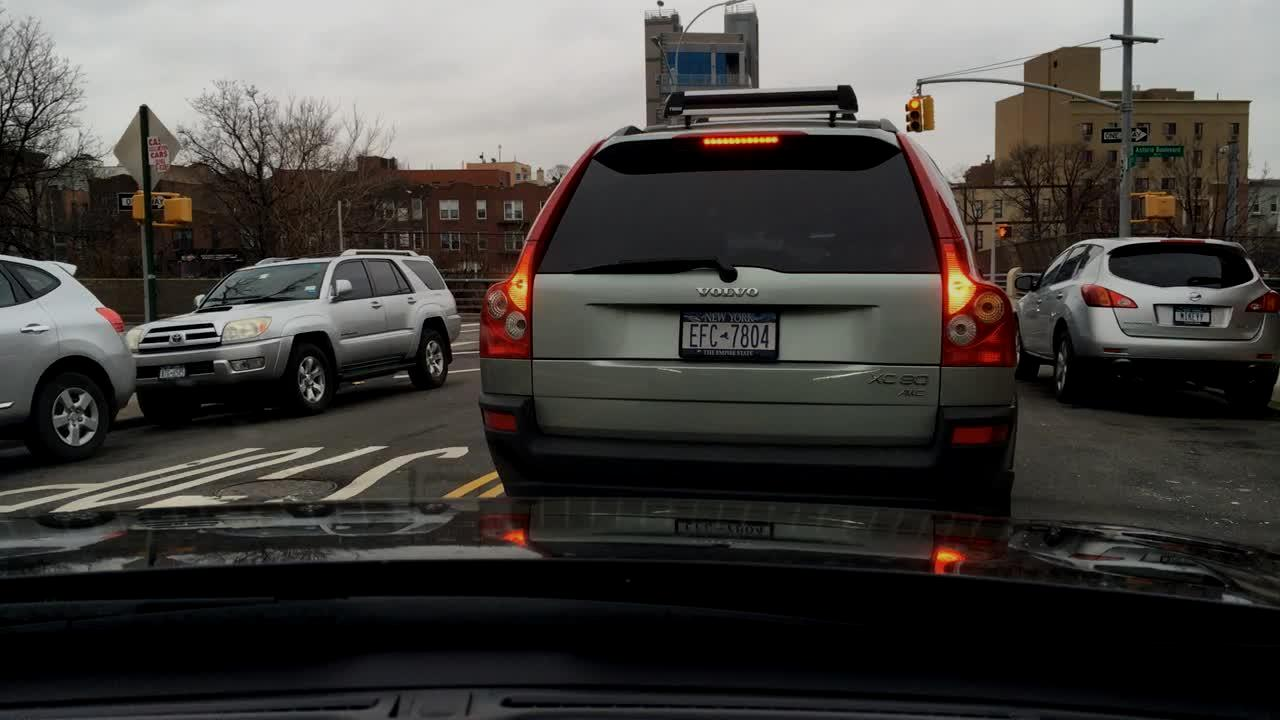Nissan: (1187, 285, 1203, 310)
Toyota: (169, 332, 186, 345)
volvo: (690, 283, 763, 302)
